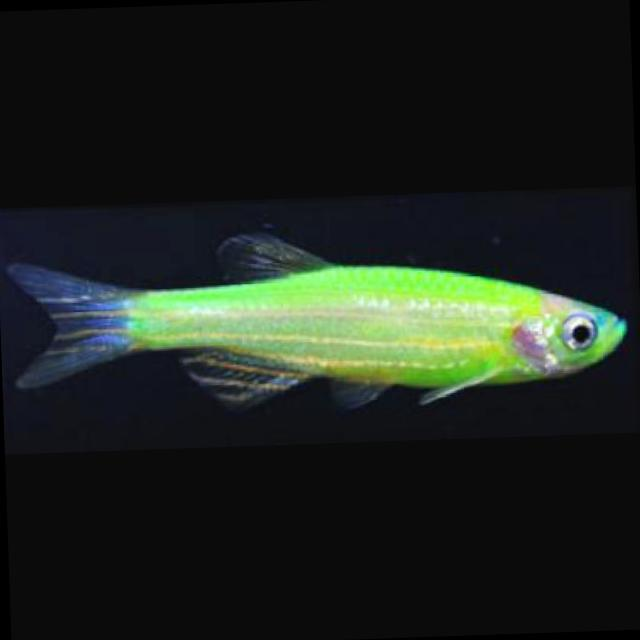ZebraFish: (2, 218, 628, 416)
